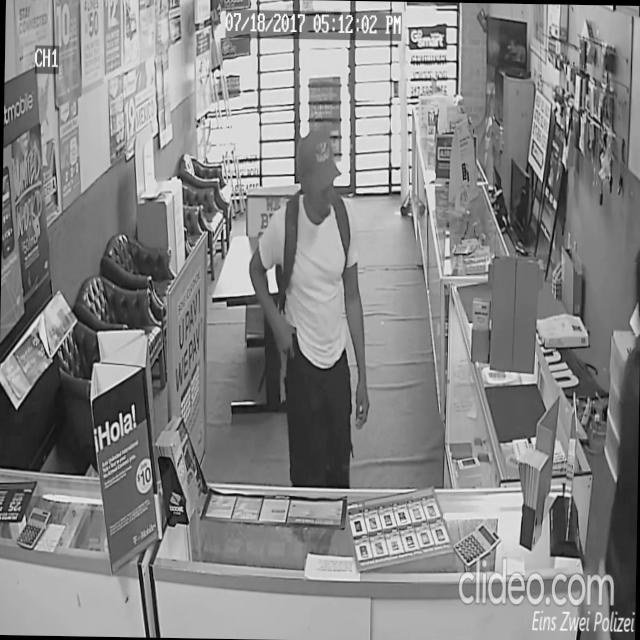gun: (280, 322, 302, 384)
person with a gun: (244, 121, 376, 488)
